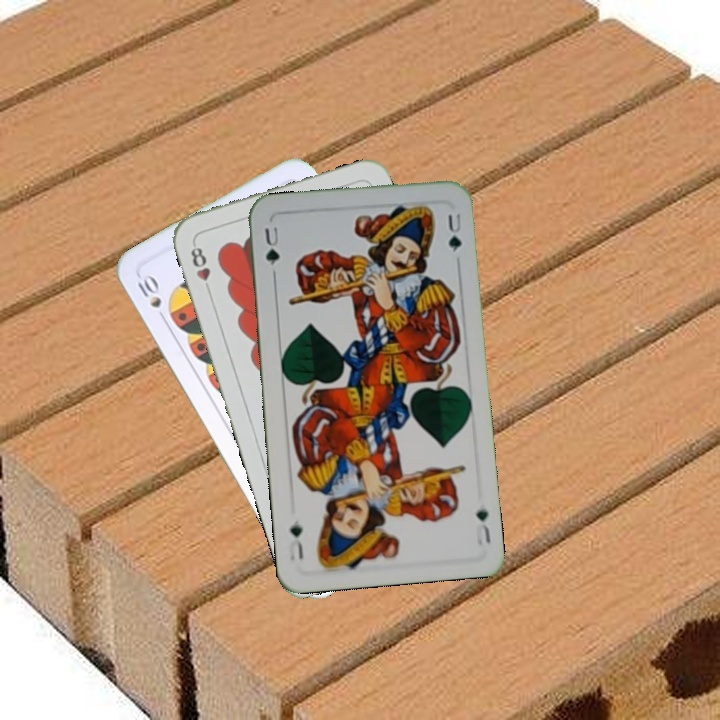GU: (260, 222, 283, 278), (471, 504, 493, 549)
H8: (186, 239, 214, 297)
S10: (133, 270, 164, 311)
